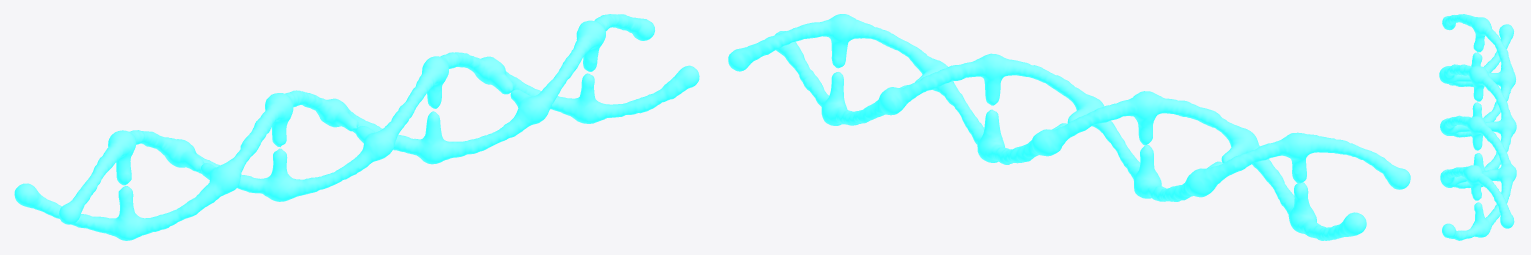
File: DNA_2.gltf
3 renders of one model, left to right at view 1: azimuth 30°, elevation 25°; view 2: azimuth 150°, elevation 25°; view 3: azimuth 270°, elevation 25°, orthographic. The views are drawn at different scales.
Visible parts, largest first — view 1: 融球; view 2: 融球; view 3: 融球.
Part boxes in pixels (<box>): 融球: <box>14,14,699,240</box>; 融球: <box>728,14,1410,240</box>; 融球: <box>1439,14,1516,240</box>.
Bounding box in the file's own units: 412 × 65.69 × 66.02.
